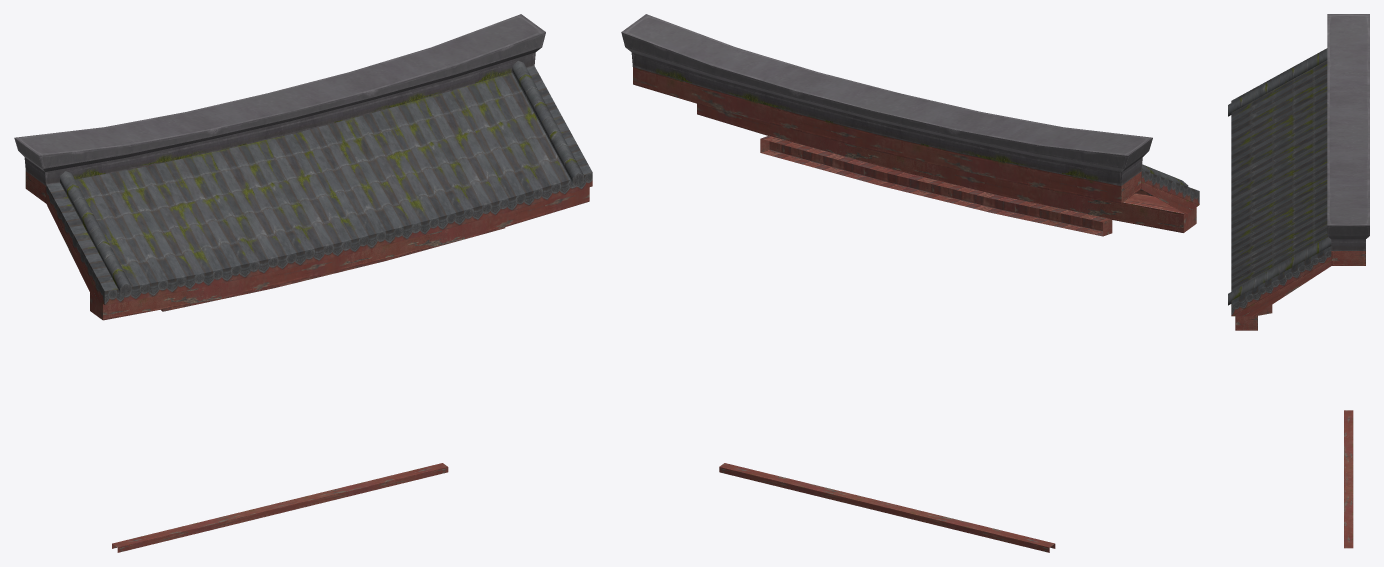
Rendered from b_zx_yuanmen01_02.FBX.
3 renders of one model, left to right at view 1: azimuth 30°, elevation 25°; view 2: azimuth 150°, elevation 25°; view 3: azimuth 270°, elevation 25°, orthographic. The views are drawn at different scales.
Parts seen in each view (by area): view 1: b_zx_yuanmen01_02; view 2: b_zx_yuanmen01_02; view 3: b_zx_yuanmen01_02.
Part boxes in pixels (<box>): b_zx_yuanmen01_02: <box>14,14,592,552</box>; b_zx_yuanmen01_02: <box>621,14,1199,552</box>; b_zx_yuanmen01_02: <box>1228,14,1369,548</box>.
Bounding box in the file's own units: 8.79 × 7.05 × 2.49.
